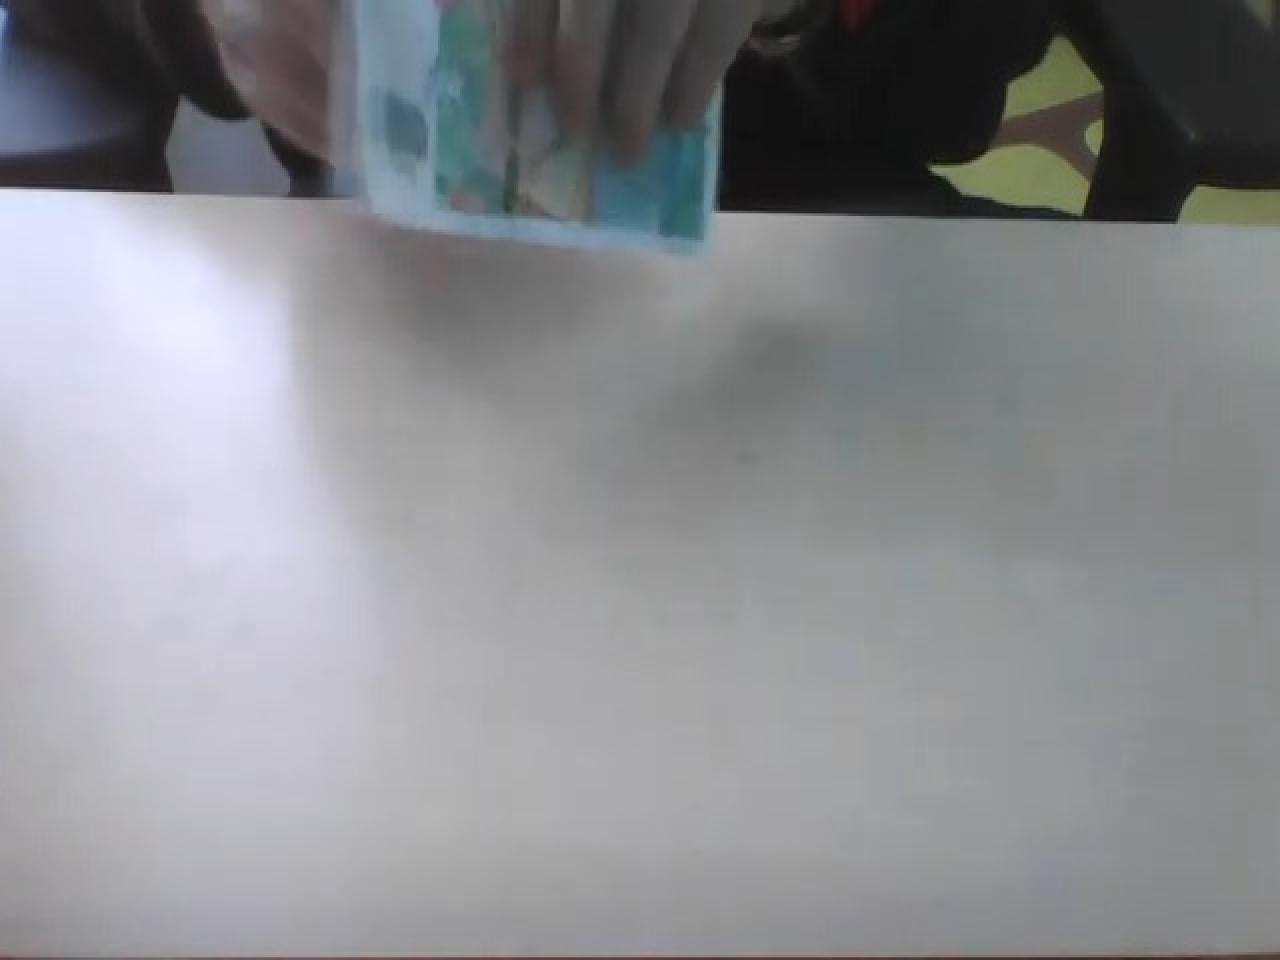100leva: (348, 0, 724, 253)
